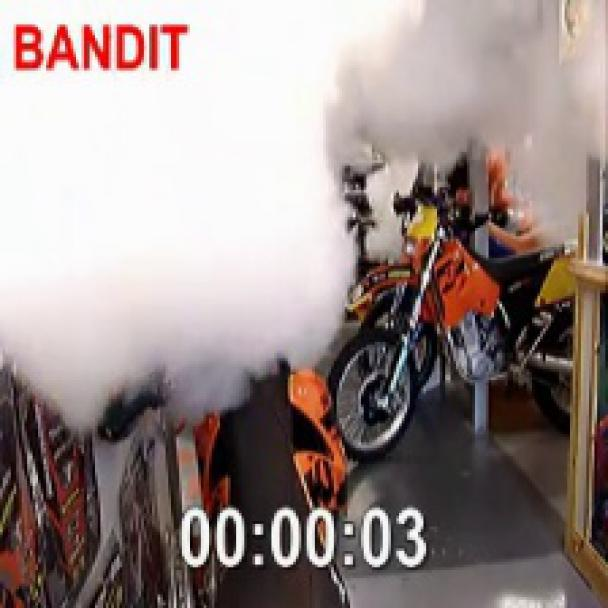smoke: (0, 74, 334, 425), (335, 0, 605, 175)
